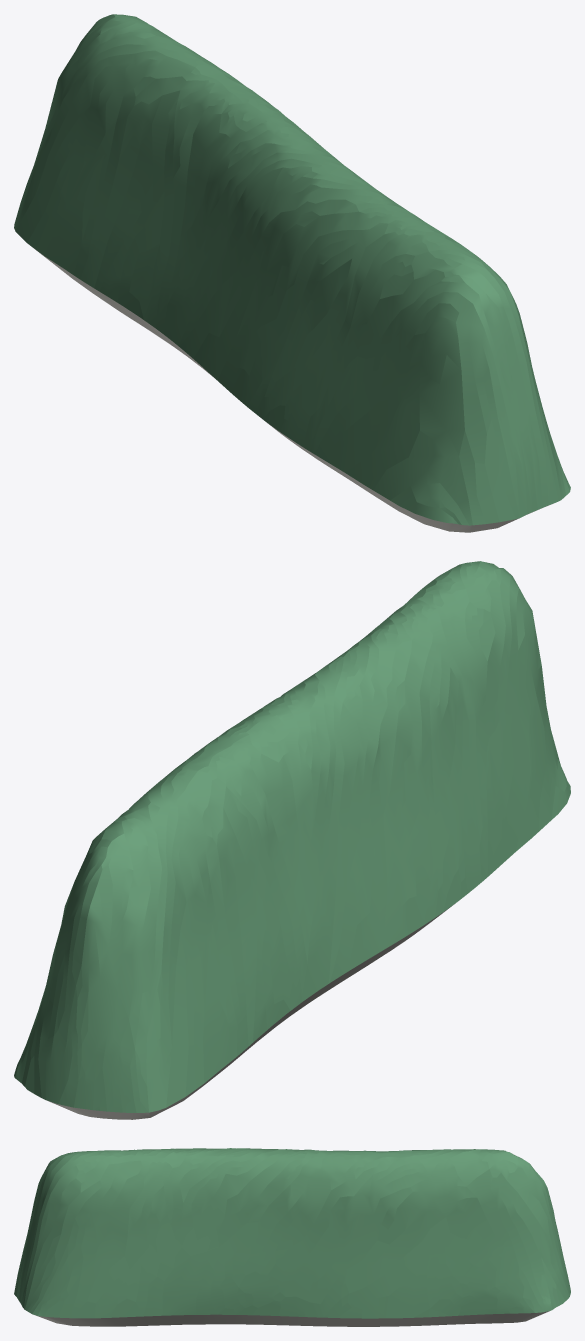
The model's file is island_asian_K.fbx.
The picture shows the model from 3 angles, top to bottom: view 1: azimuth 30°, elevation 25°; view 2: azimuth 150°, elevation 25°; view 3: azimuth 270°, elevation 25°; orthographic projection. The views are drawn at different scales.
Parts seen in each view (by area): view 1: island_asian_K; view 2: island_asian_K; view 3: island_asian_K.
Part boxes in pixels (x1,y1,x2,y2): island_asian_K: (14,14,570,532); island_asian_K: (14,561,570,1119); island_asian_K: (14,1148,570,1326).
Bounding box in the file's own units: 1866 × 2616 × 8412.
